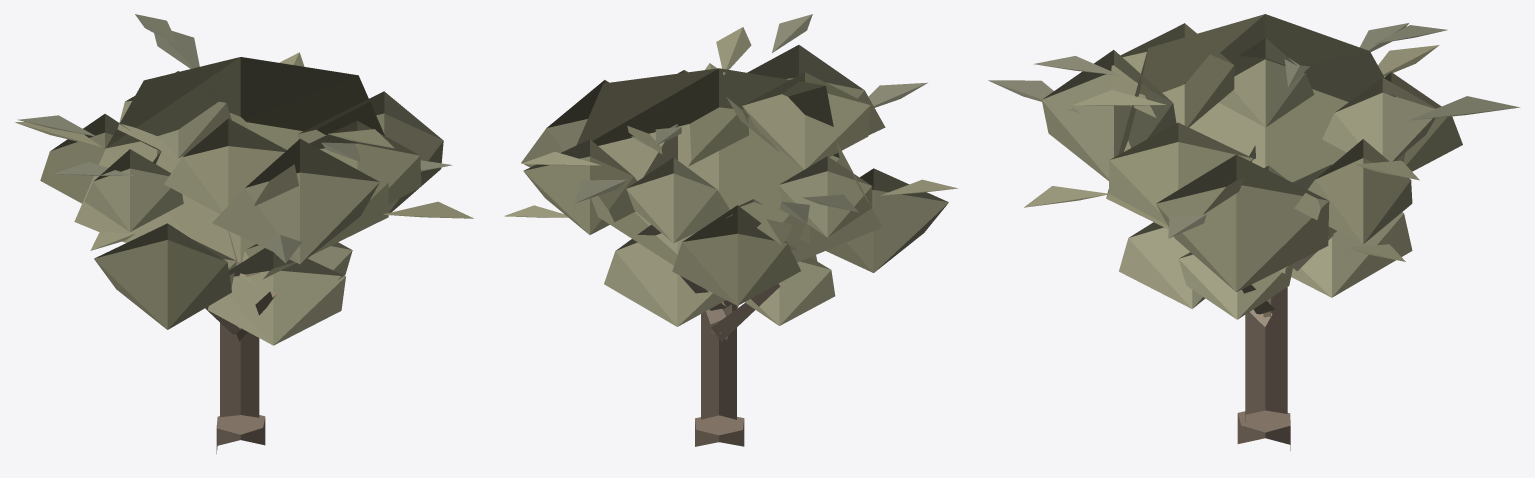
Rendered from shu.wujiaofeng__winter.glb.
3 views of the same model, side by side, from view 1: azimuth 30°, elevation 25°; view 2: azimuth 150°, elevation 25°; view 3: azimuth 270°, elevation 25° (orthographic). The views are drawn at different scales.
Parts seen in each view (by area): view 1: shu.wujiaofeng__winter; view 2: shu.wujiaofeng__winter; view 3: shu.wujiaofeng__winter.
Part boxes in pixels (x1,y1,x2,y2): shu.wujiaofeng__winter: (15, 14, 473, 453); shu.wujiaofeng__winter: (504, 14, 958, 446); shu.wujiaofeng__winter: (988, 14, 1520, 450).
Size of the model in its own units: 11.11 by 10.46 by 12.31.
